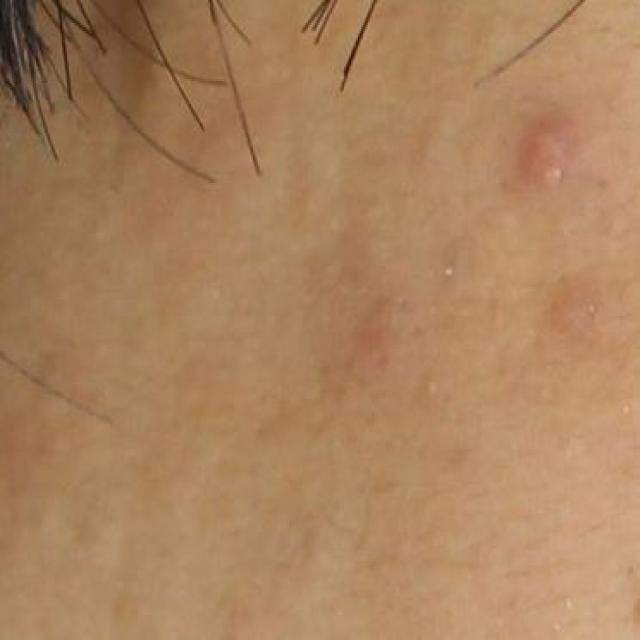Pimples: (514, 94, 581, 204)
